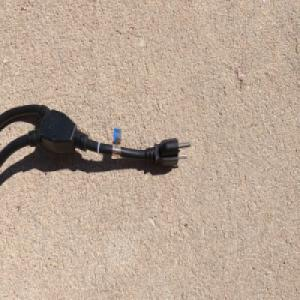Wire: (0, 100, 191, 184)
